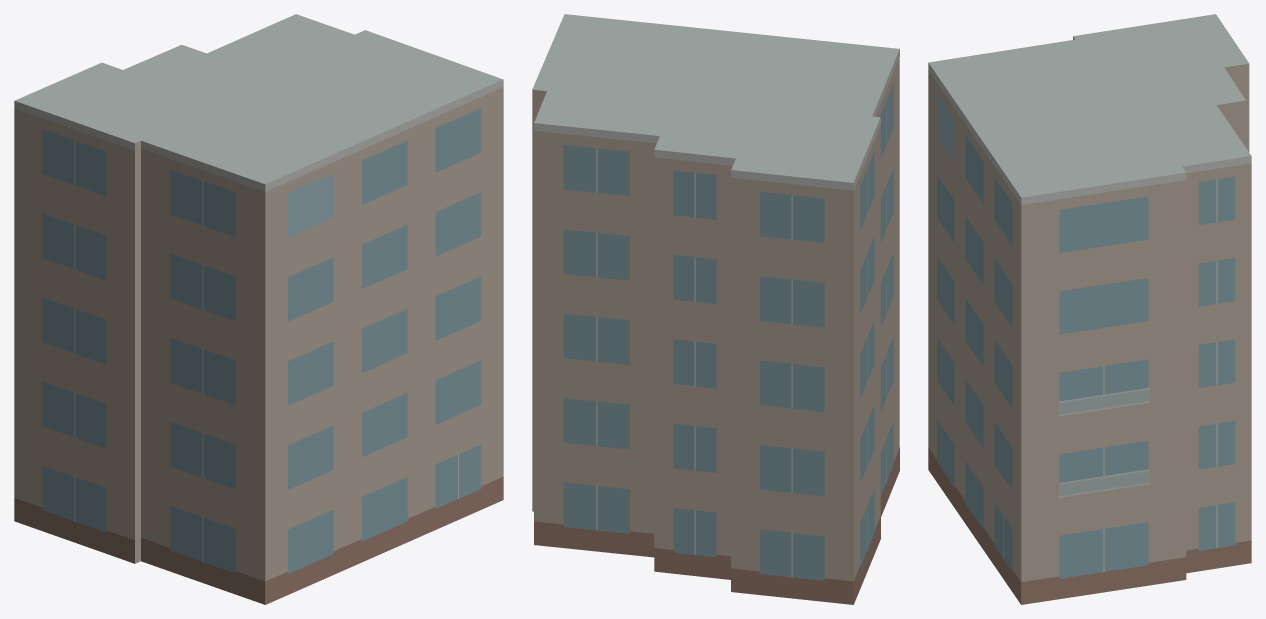
The model's file is survey-upis-33006721.glb.
3 renders of one model, left to right at view 1: azimuth 30°, elevation 25°; view 2: azimuth 150°, elevation 25°; view 3: azimuth 270°, elevation 25°, orthographic. The views are drawn at different scales.
Visible parts, largest first — view 1: survey-upis-33006721.tmp; view 2: survey-upis-33006721.tmp; view 3: survey-upis-33006721.tmp.
Part boxes in pixels (bbox=[...]): survey-upis-33006721.tmp: bbox=[14, 14, 503, 604]; survey-upis-33006721.tmp: bbox=[532, 14, 899, 604]; survey-upis-33006721.tmp: bbox=[928, 14, 1251, 604].
Size of the model in its own units: 12.97 by 13.4 by 9.65.
